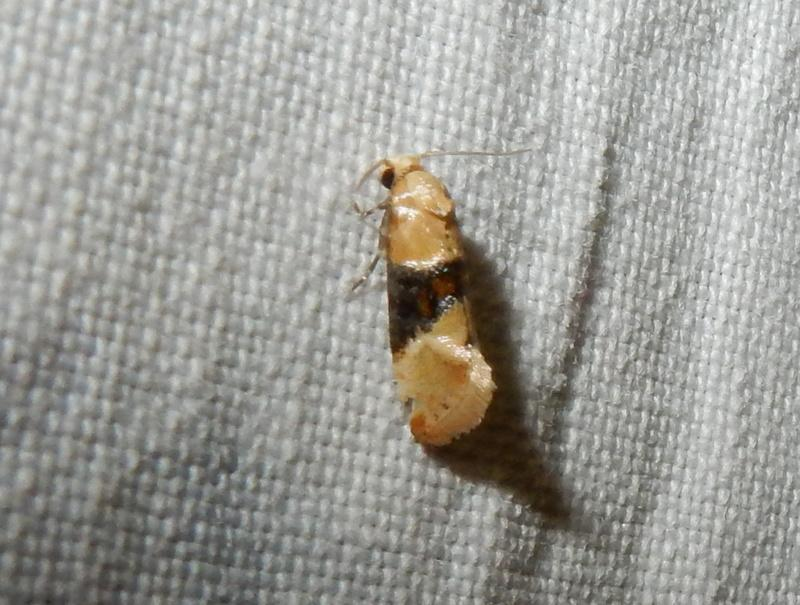Eupoecilia Ambiguella: (344, 143, 533, 451)
